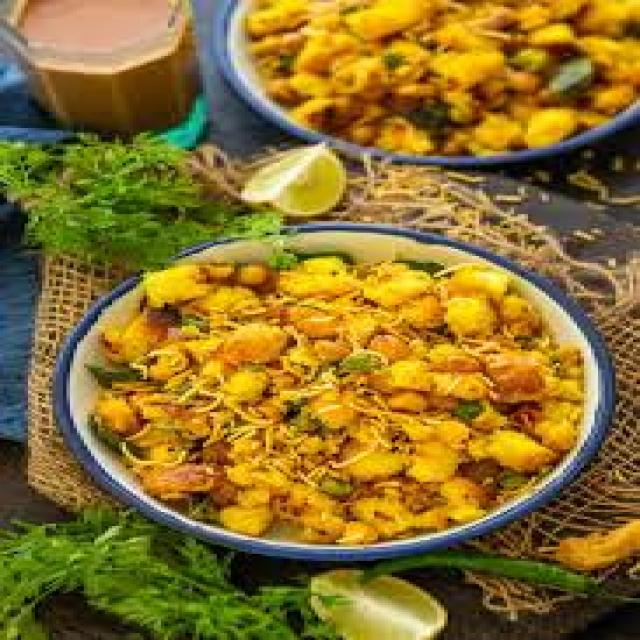POHA: (91, 251, 577, 540), (241, 0, 637, 149)
